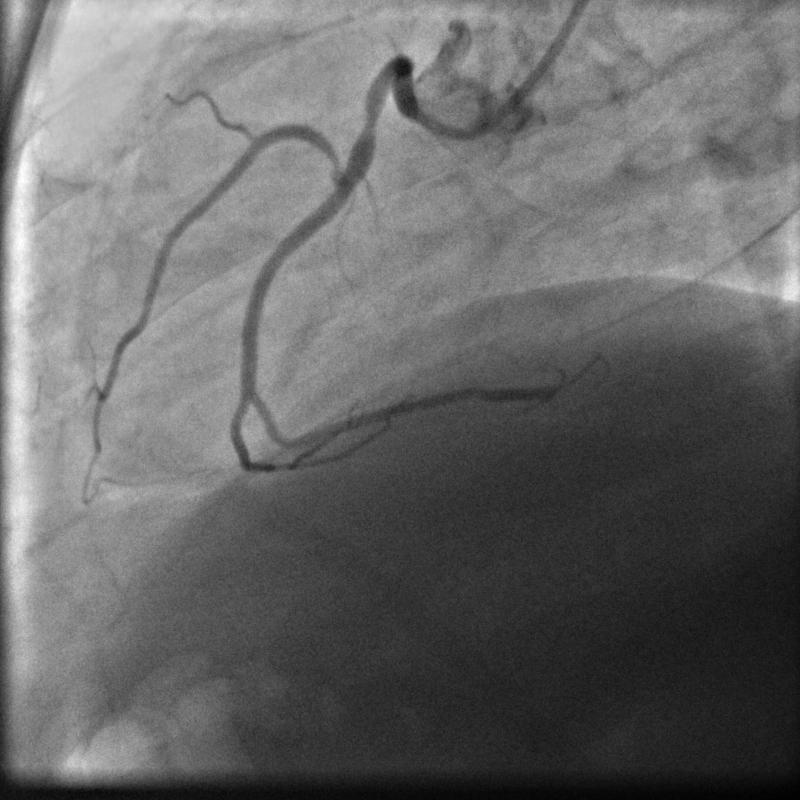Stenosis: (349, 101, 382, 138)
